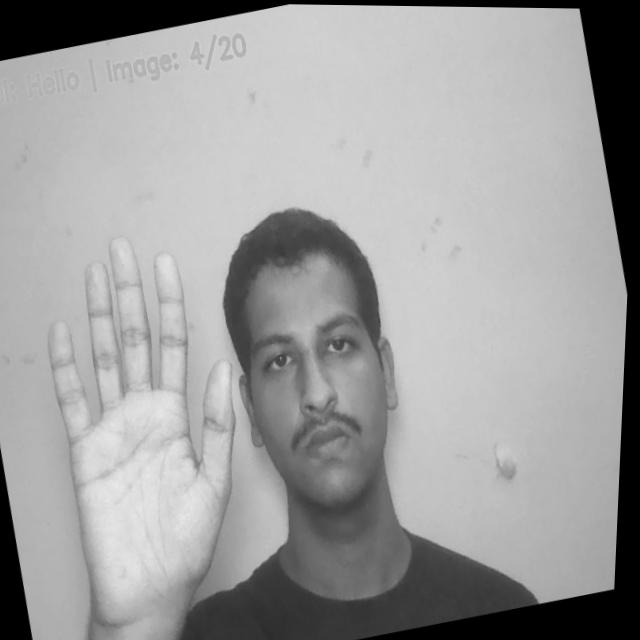Hello: (17, 218, 289, 639)
